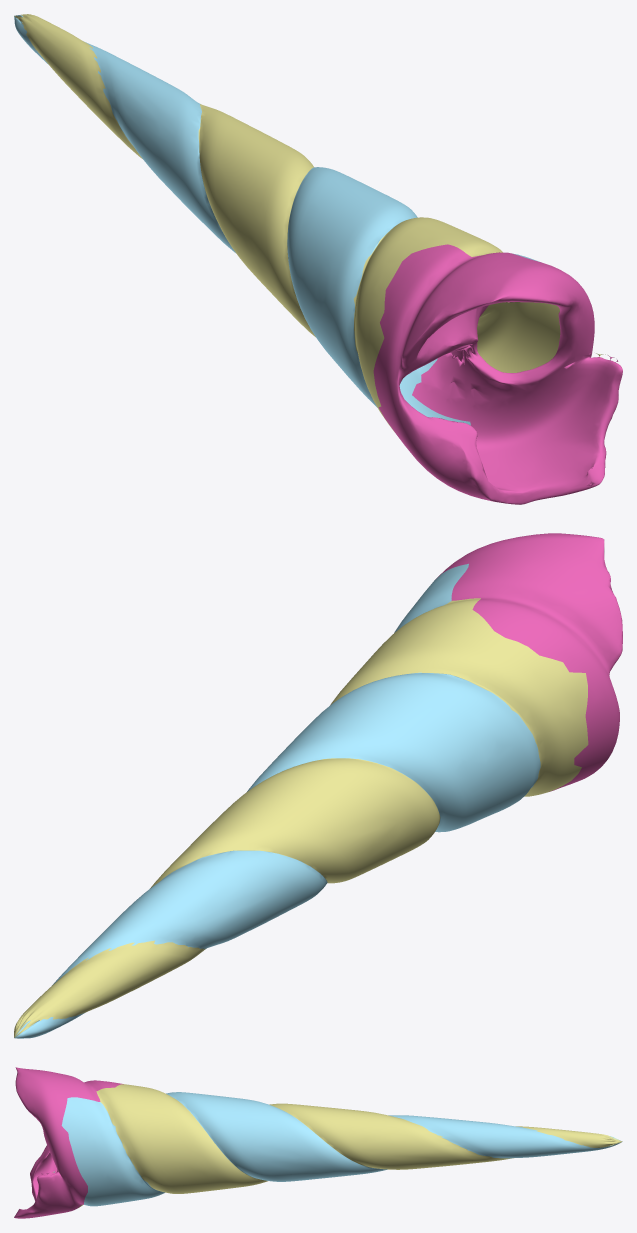
File: UnicHorn.fbx
The picture shows the model from 3 angles, top to bottom: view 1: azimuth 30°, elevation 25°; view 2: azimuth 150°, elevation 25°; view 3: azimuth 270°, elevation 25°; orthographic projection. The views are drawn at different scales.
Parts seen in each view (by area): view 1: Plane.010; view 2: Plane.010; view 3: Plane.010.
Part boxes in pixels (x1,y1,x2,y2): Plane.010: [14, 14, 622, 504]; Plane.010: [14, 533, 622, 1038]; Plane.010: [14, 1067, 622, 1218].
Bounding box in the file's own units: 328 × 351 × 1447.
